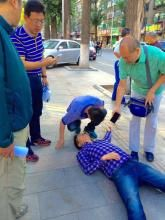fall: (71, 121, 164, 219)
